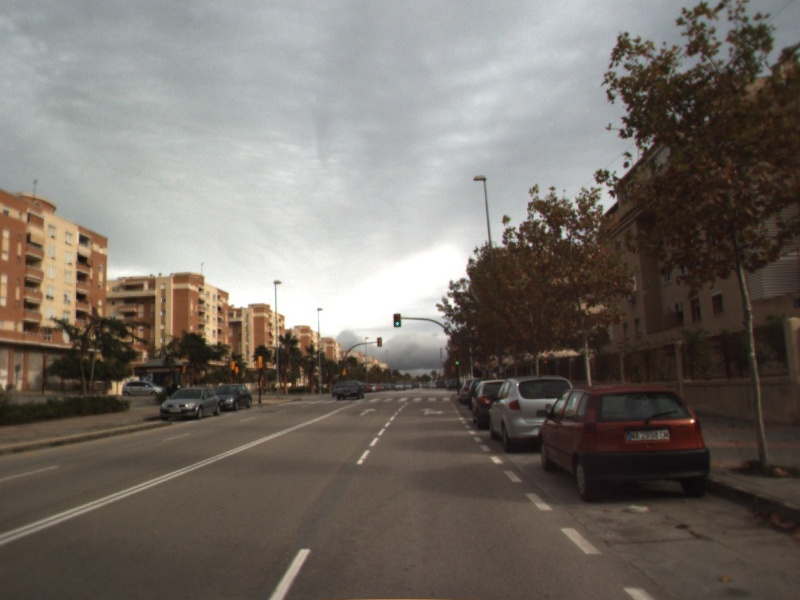STRAIGHT: (357, 405, 379, 418)
STRAIGHT_RIGHT: (418, 406, 447, 417)
